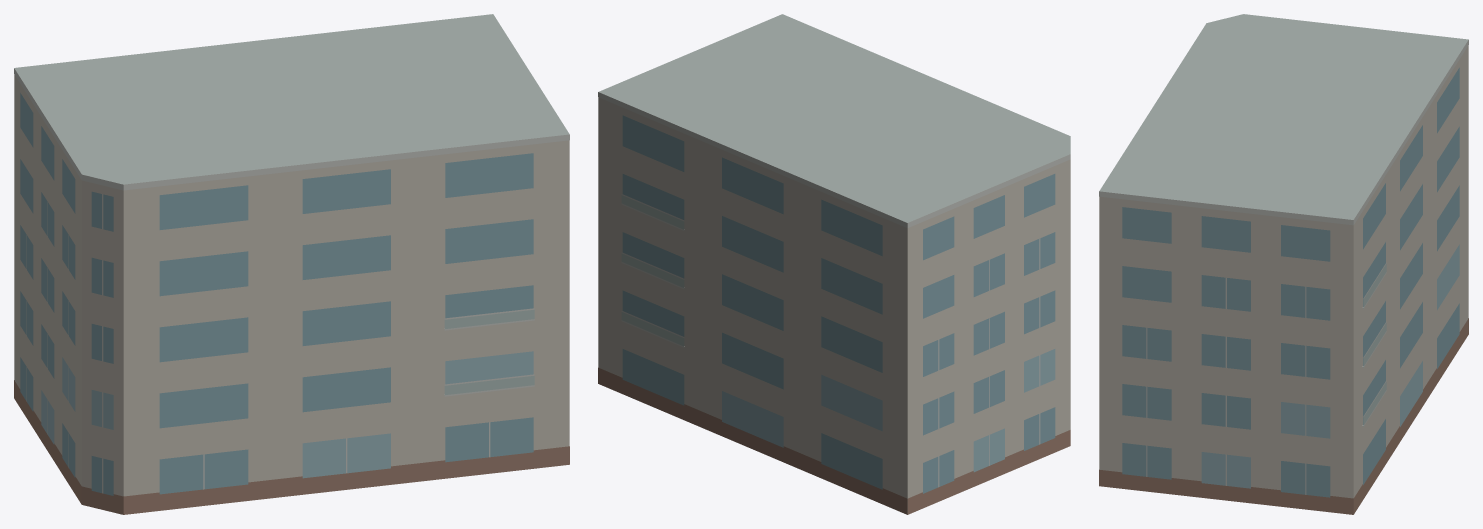
File: survey-upis-32752642.glb
3 renders of one model, left to right at view 1: azimuth 30°, elevation 25°; view 2: azimuth 150°, elevation 25°; view 3: azimuth 270°, elevation 25°, orthographic. The views are drawn at different scales.
Parts seen in each view (by area): view 1: survey-upis-32752642.tmp; view 2: survey-upis-32752642.tmp; view 3: survey-upis-32752642.tmp.
Boxes of the visible parts, <box> form: survey-upis-32752642.tmp: <box>14,14,569,514</box>; survey-upis-32752642.tmp: <box>598,14,1070,514</box>; survey-upis-32752642.tmp: <box>1099,14,1468,514</box>.
Size of the model in its own units: 20.55 by 13.7 by 15.58.
